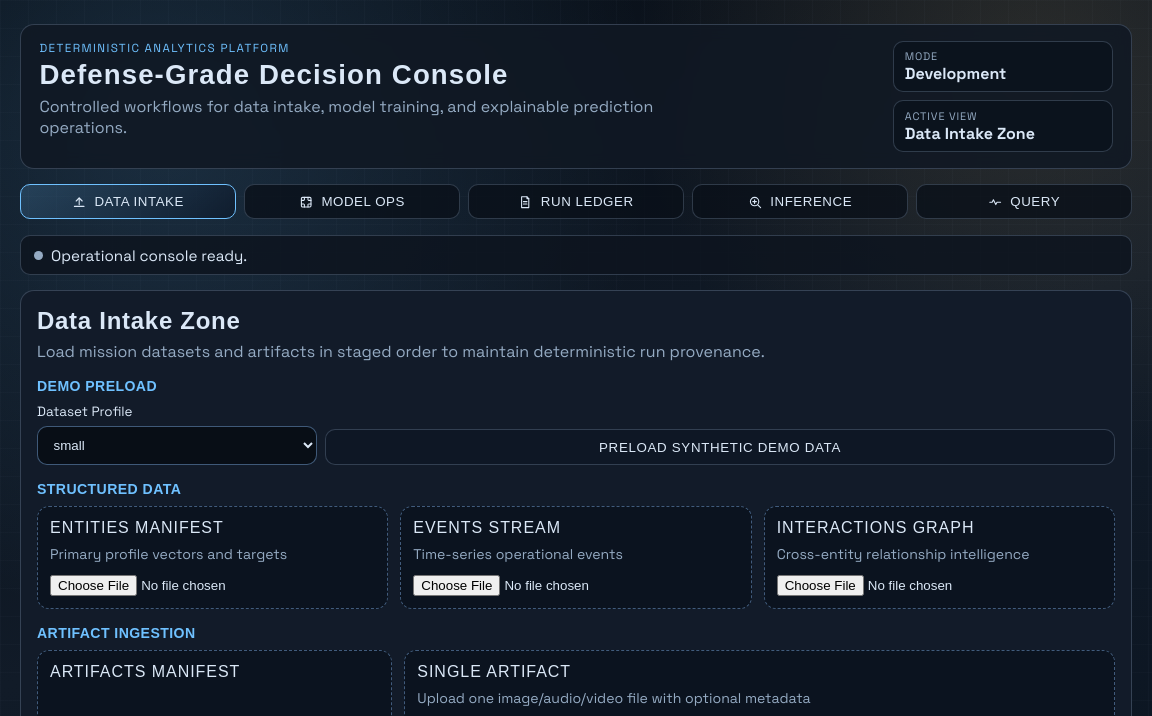
App integration flow › loads a pre-populated query prompt when a preset is selected
Click the button with test id "tab-query": [1024, 202] box [916,184,1132,219]
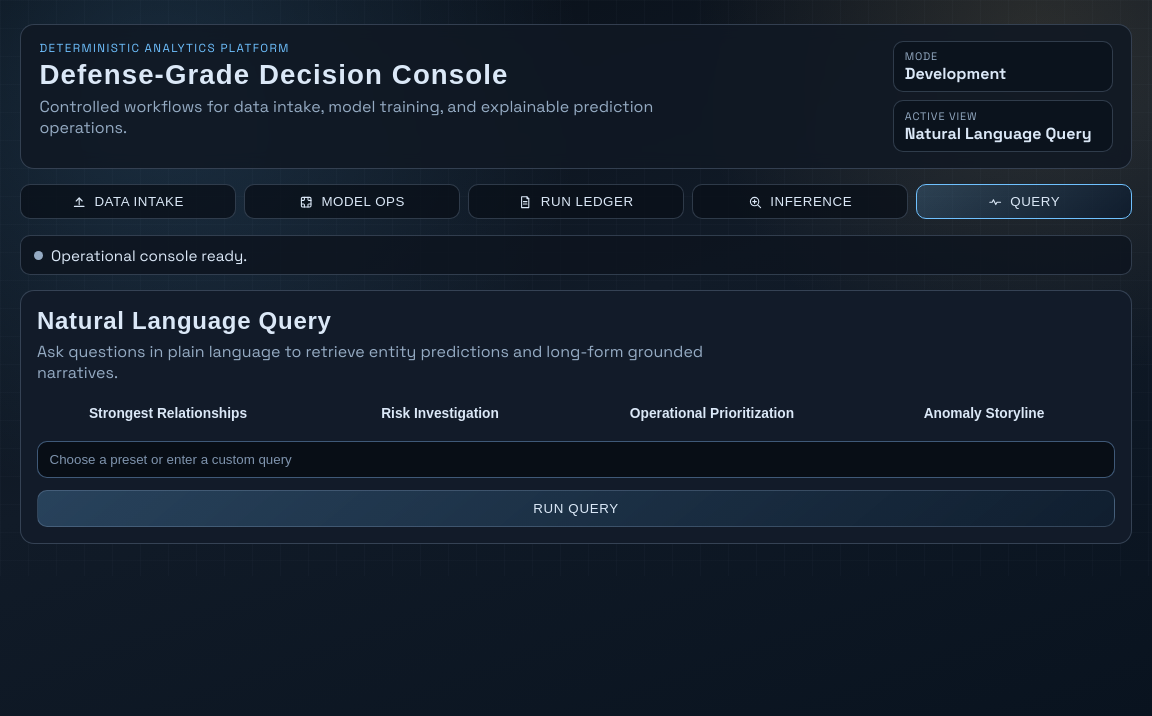
Click the button with test id "prompt-strongest-relationships": [168, 413] box [37,398,299,429]
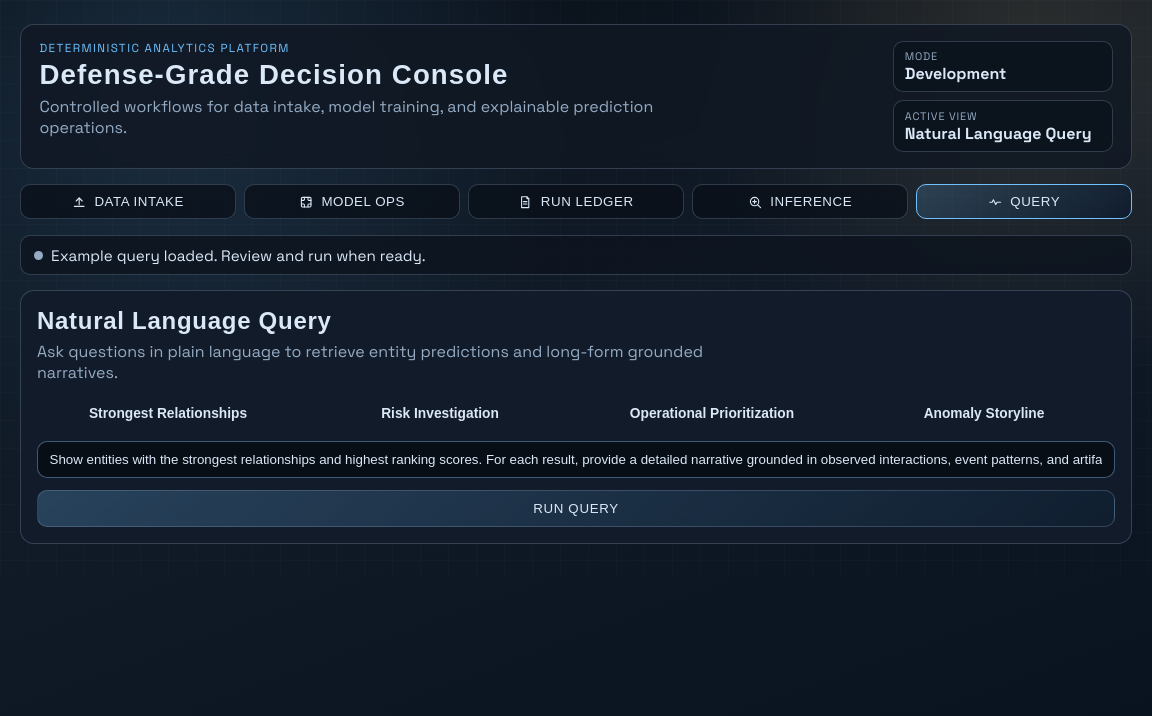
Now the element with test id "status-banner" shows "Example query loaded.", box [51,246,426,265]
